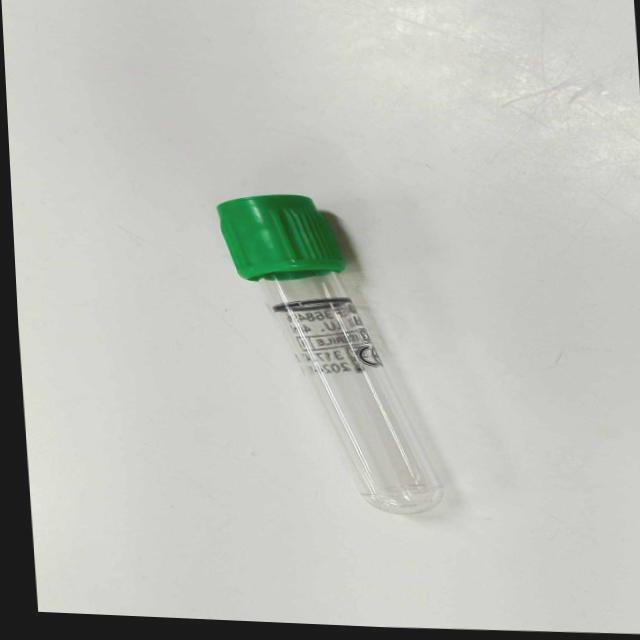General: (273, 295, 385, 379)
Sharps: (217, 191, 447, 515)
